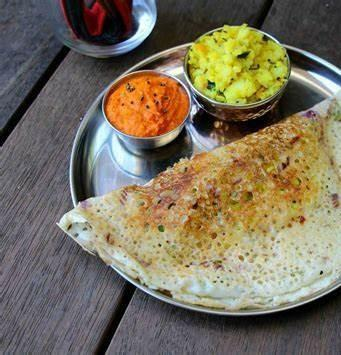Dosa: (57, 94, 341, 309)
